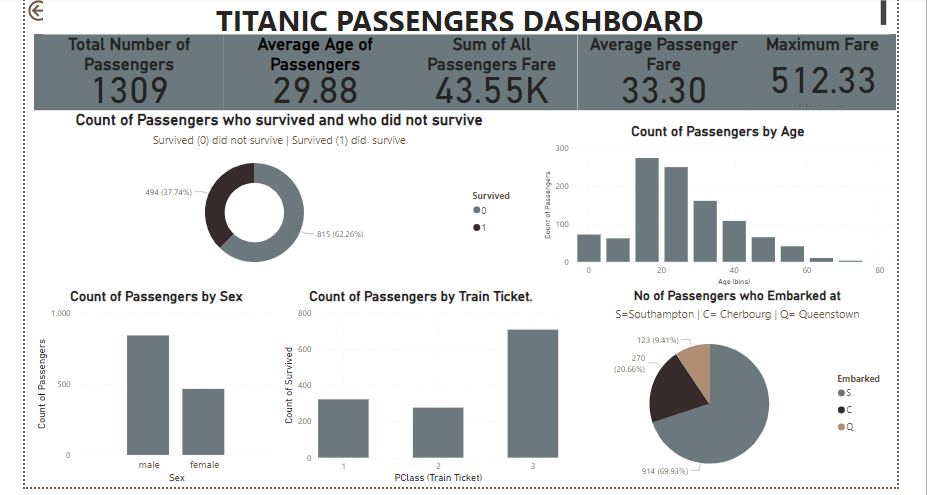

This screenshot's page, from the dashboard's own definition file:
{"tool":"powerbi","page":{"name":"Page 1","canvas":[1280,720],"ordinal":0},"visuals":[{"type":"clusteredColumnChart","fields":{"Y":["CountNonNull(train.Survived)"],"Category":["train.Sex"]},"box":[12.3,427.8,362.7,292.3],"z":0},{"type":"card","title":"Total Number of Passengers","fields":{"Values":["Count(train.PassengerId)"]},"box":[12.3,0,279.9,167.3],"z":1000},{"type":"card","title":"Sum of All Passengers Fare","fields":{"Values":["Sum(train.Fare)"]},"box":[559.9,0,251.8,167.3],"z":2000},{"type":"columnChart","title":"Count of Passengers by Train Ticket.","fields":{"Category":["train.PClass"],"Y":["CountNonNull(train.Survived)"]},"box":[375,427.8,413.8,292.3],"z":3000},{"type":"card","title":"Average Age of Passengers","fields":{"Values":["Avg(train.Age)"]},"box":[292.3,0,267.6,167.3],"z":4000},{"type":"donutChart","title":"Count of Passengers who survived and who did not survive","fields":{"Y":["CountNonNull(train.Survived)"],"Category":["train.Survived"]},"box":[12.3,167.3,723.6,246.5],"z":5000},{"type":"actionButton","box":[0,0,100,40],"z":6000},{"type":"columnChart","title":"Count of Passengers by Age","fields":{"Y":["CountNonNull(train.Survived)"],"Category":["train.Age (bins)"]},"box":[757.1,184.9,522.9,243],"z":7000},{"type":"pieChart","title":"No of Passengers who Embarked at","fields":{"Y":["CountNonNull(train.Embarked)"],"Category":["train.Embarked"],"Series":["train.Embarked"]},"box":[812.2,427.7,468,292.3],"z":8000},{"type":"card","title":"Average Passenger Fare","fields":{"Values":["Avg(train.Fare)"]},"box":[811.7,0,251.8,167.3],"z":9000},{"type":"card","title":"Maximum Fare","fields":{"Values":["Max(train.Fare)"]},"box":[1064.2,0,216,167],"z":10000}]}

Visuals, with their boxes on the page's 1280x720 design canvas (x1, y1, x2, y2). These are canvas units, not pixel positions in the 927x495 screenshot, which may show the page scaled, cropped or inside an application window:
clusteredColumnChart - CountNonNull(train.Survived) x train.Sex: (left=12, top=428, right=375, bottom=720)
"Total Number of Passengers" card: (left=12, top=0, right=292, bottom=167)
"Sum of All Passengers Fare" card: (left=560, top=0, right=812, bottom=167)
"Count of Passengers by Train Ticket." columnChart: (left=375, top=428, right=789, bottom=720)
"Average Age of Passengers" card: (left=292, top=0, right=560, bottom=167)
"Count of Passengers who survived and who did not survive" donutChart: (left=12, top=167, right=736, bottom=414)
actionButton: (left=0, top=0, right=100, bottom=40)
"Count of Passengers by Age" columnChart: (left=757, top=185, right=1280, bottom=428)
"No of Passengers who Embarked at" pieChart: (left=812, top=428, right=1280, bottom=720)
"Average Passenger Fare" card: (left=812, top=0, right=1064, bottom=167)
"Maximum Fare" card: (left=1064, top=0, right=1280, bottom=167)
